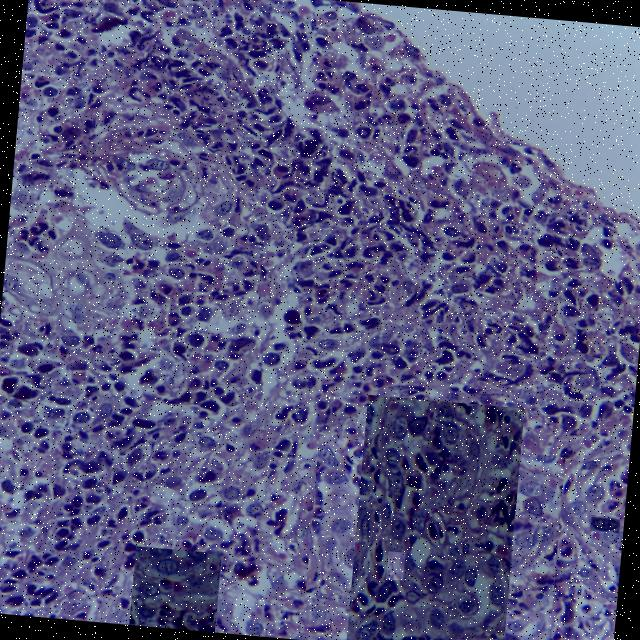Multiple Nucleol: (385, 551, 402, 579), (589, 517, 618, 531)
Nuclear Hyperchromatism: (346, 397, 506, 640), (131, 547, 219, 626)
